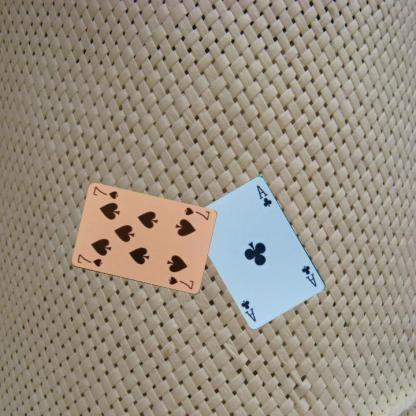7s: (74, 251, 104, 268), (182, 204, 210, 221)
Ac: (298, 262, 318, 288)
